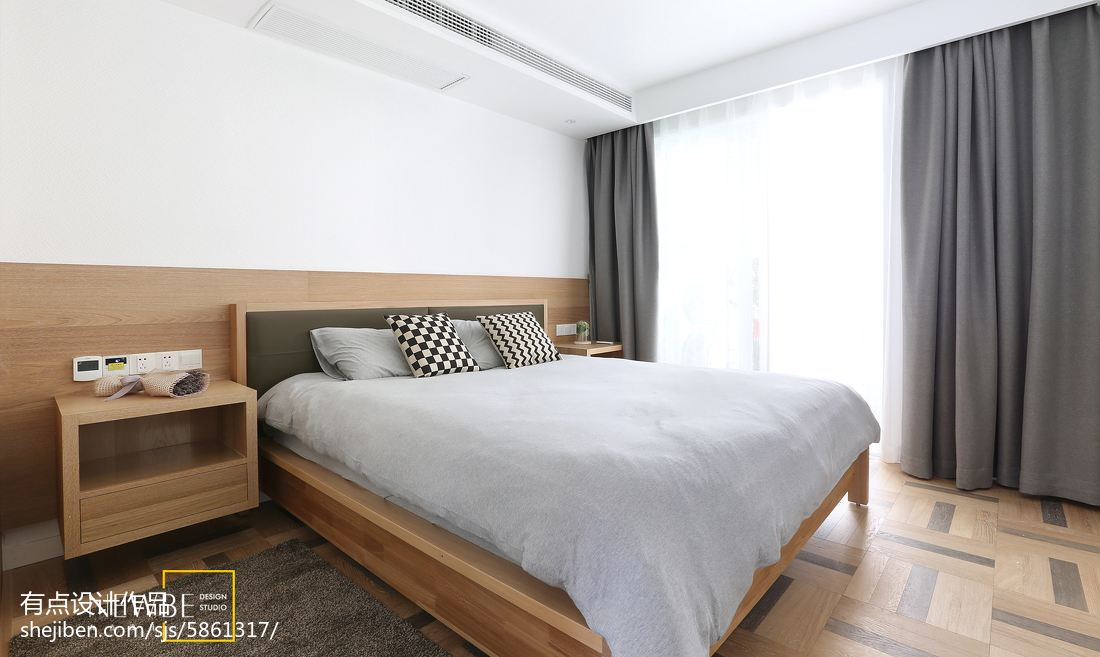床: (283, 358, 870, 619)
枕头: (315, 306, 563, 384)
